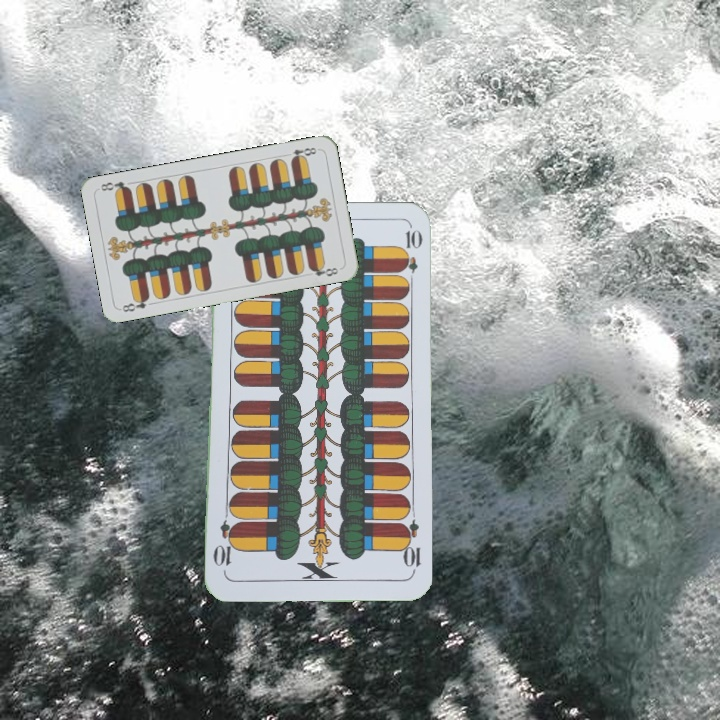E10: (397, 517, 423, 576)
E8: (118, 292, 152, 315), (287, 143, 321, 163)
